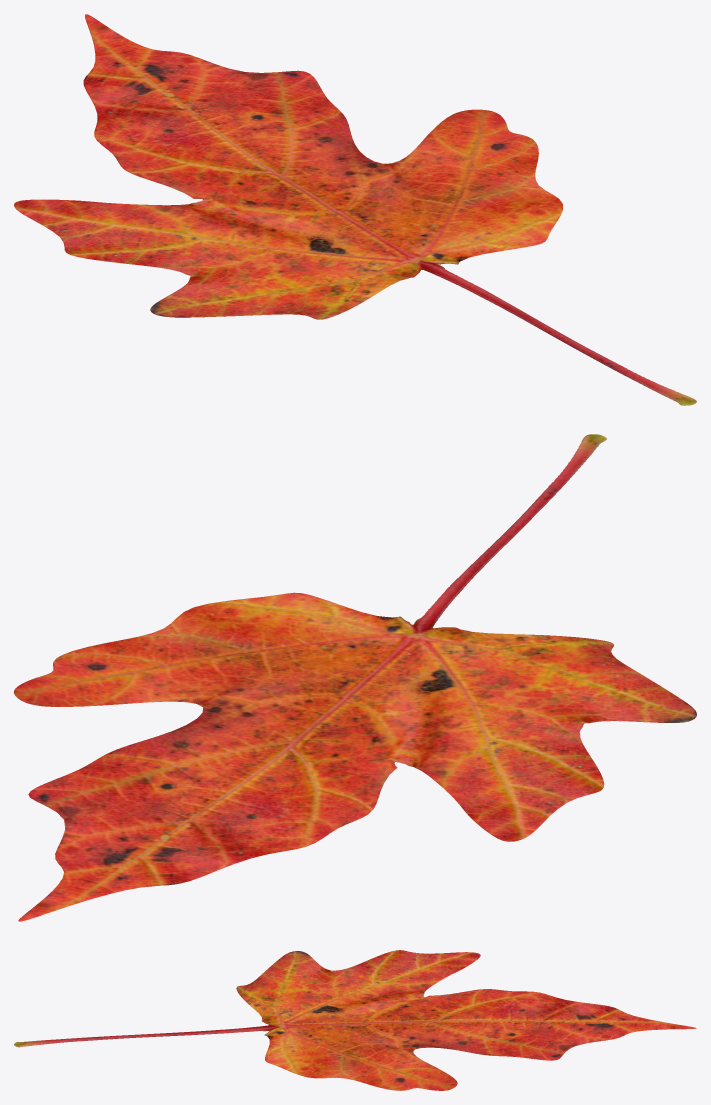
File: leaf_4_sub.fbx
3 renders of one model, top to bottom at view 1: azimuth 30°, elevation 25°; view 2: azimuth 150°, elevation 25°; view 3: azimuth 270°, elevation 25°, orthographic. The views are drawn at different scales.
Visible parts, largest first — view 1: leaf_04; view 2: leaf_04; view 3: leaf_04.
Part boxes in pixels (x1,y1,x2,y2): leaf_04: [14, 14, 696, 405]; leaf_04: [14, 434, 696, 921]; leaf_04: [14, 950, 696, 1090].
Bounding box in the file's own units: 308 × 1 × 631.
